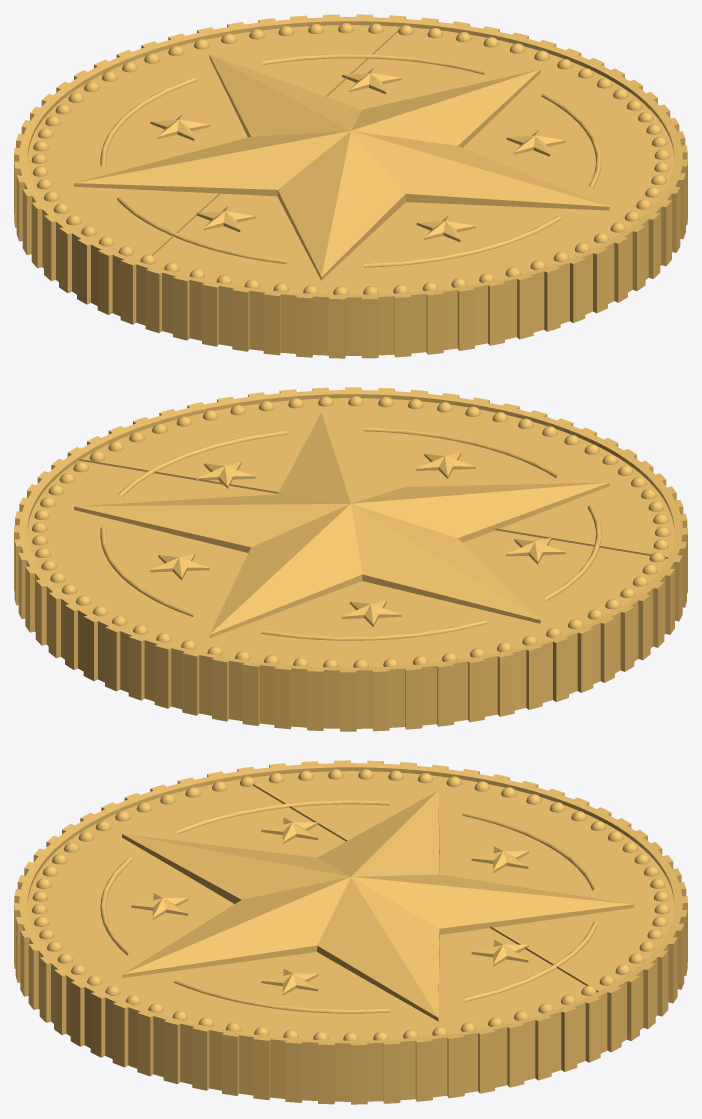
Rendered from Coin.glb.
3 views of the same model, one above another, from view 1: azimuth 30°, elevation 25°; view 2: azimuth 150°, elevation 25°; view 3: azimuth 270°, elevation 25° (orthographic).
Visible parts, largest first — view 1: coin1, star1, parts1, Torus, star2; view 2: coin1, star1, parts1, Torus, star2; view 3: coin1, star1, parts1, Torus, star2.
Boxes of the visible parts, box(x1,y1,x2,y2) form: coin1: box(14, 14, 687, 358); star1: box(74, 54, 609, 280); parts1: box(31, 23, 669, 294); Torus: box(100, 54, 601, 267); star2: box(150, 67, 565, 241); coin1: box(14, 387, 687, 731); star1: box(74, 412, 609, 638); parts1: box(32, 396, 670, 667); Torus: box(100, 427, 601, 640); star2: box(150, 452, 565, 626); coin1: box(14, 760, 687, 1104); star1: box(122, 791, 634, 1021); parts1: box(32, 769, 669, 1040); Torus: box(100, 800, 598, 1013); star2: box(131, 817, 528, 995).
Size of the model in its own units: 11.67 by 1.66 by 11.67.
